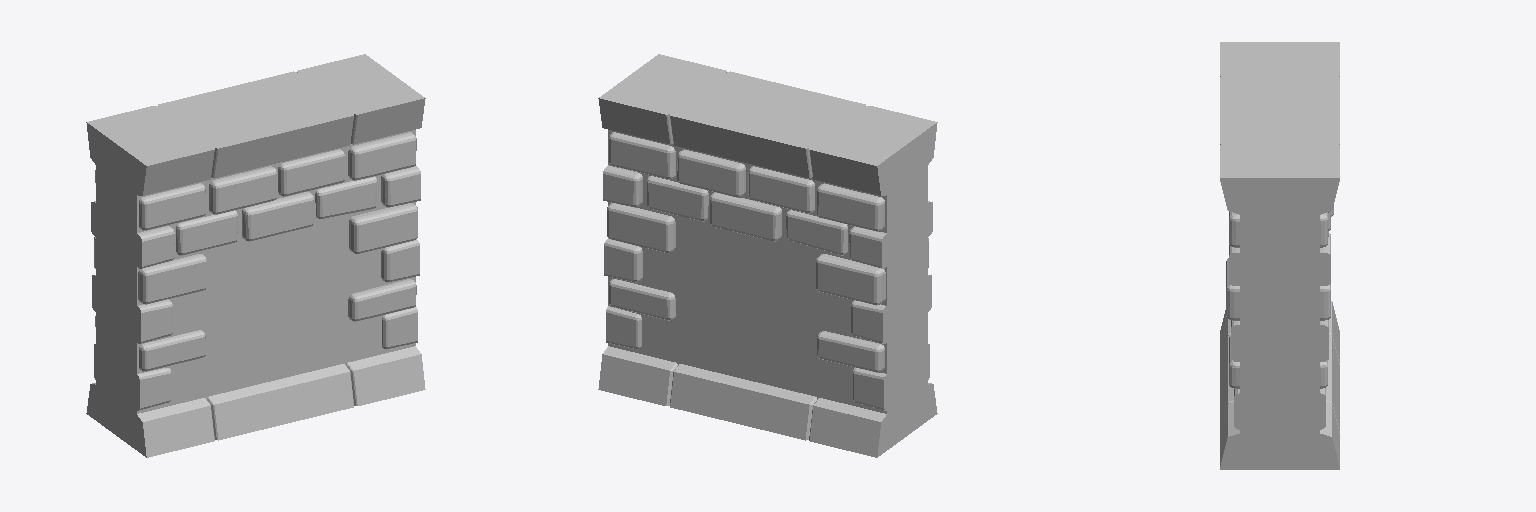
Rendered from wall_broken.obj.
The picture shows the model from 3 angles: view 1: azimuth 30°, elevation 25°; view 2: azimuth 150°, elevation 25°; view 3: azimuth 270°, elevation 25°; orthographic projection.
Visible parts, largest first — view 1: wall_broken_Cube.2629; view 2: wall_broken_Cube.2629; view 3: wall_broken_Cube.2629.
Boxes of the visible parts, box(x1,y1,x2,y2) form: wall_broken_Cube.2629: box(86, 54, 425, 457); wall_broken_Cube.2629: box(598, 54, 937, 457); wall_broken_Cube.2629: box(1220, 42, 1339, 469).
Bounding box in the file's own units: 4 × 4 × 1.5.